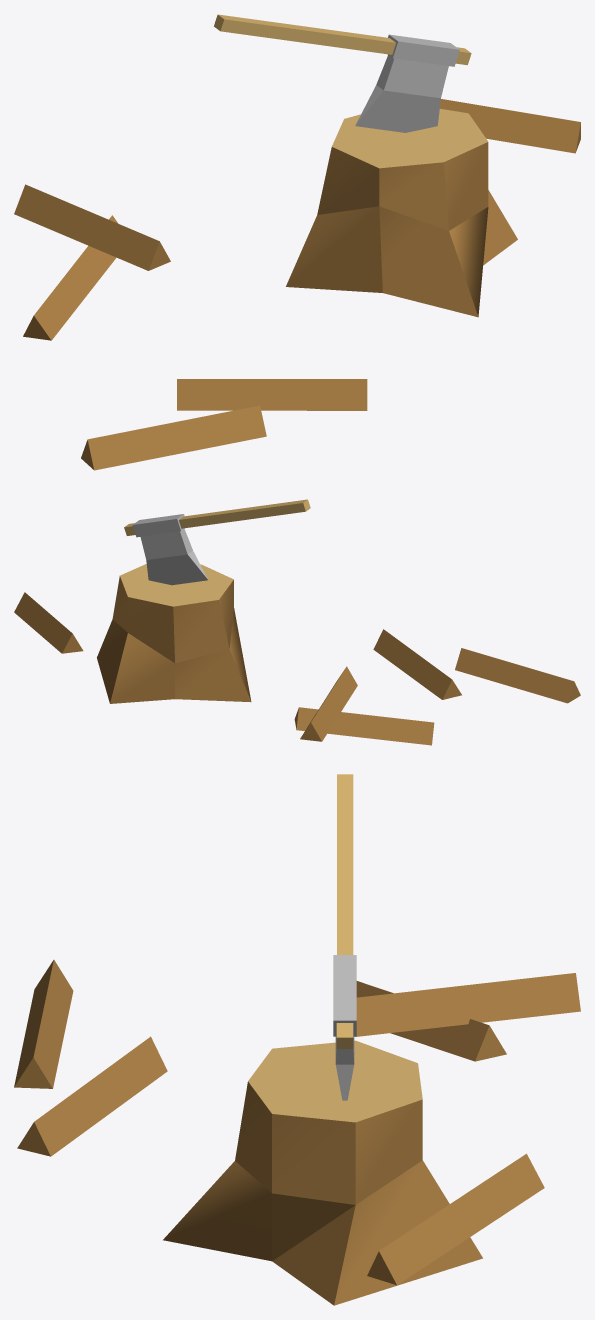
Rendered from axe.FBX.
3 renders of one model, top to bottom at view 1: azimuth 30°, elevation 25°; view 2: azimuth 150°, elevation 25°; view 3: azimuth 270°, elevation 25°, orthographic. The views are drawn at different scales.
Parts seen in each view (by area): view 1: axe; view 2: axe; view 3: axe.
Part boxes in pixels (left/top/right/bottom): axe: left=14, top=14, right=580, bottom=470; axe: left=14, top=499, right=580, bottom=745; axe: left=14, top=774, right=580, bottom=1305.
Bounding box in the file's own units: 9.81 × 4.42 × 6.19.
1 material, 1 textured.
